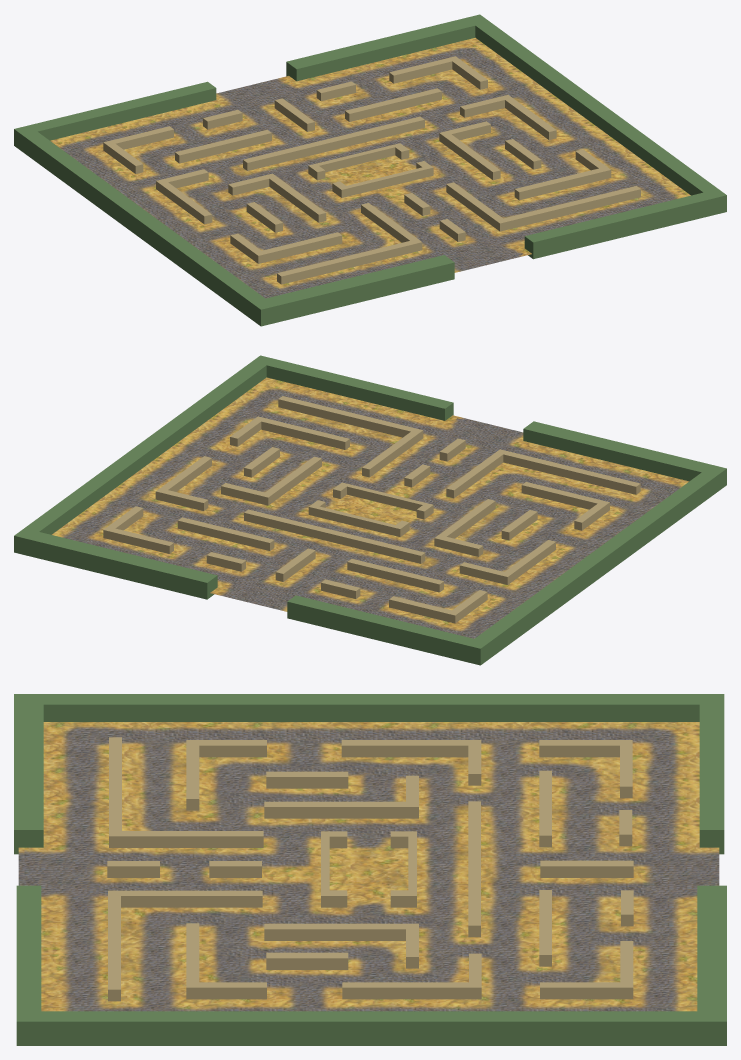
Rendered from mapa.fbx.
The picture shows the model from 3 angles, top to bottom: view 1: azimuth 30°, elevation 25°; view 2: azimuth 150°, elevation 25°; view 3: azimuth 270°, elevation 25°; orthographic projection. The views are drawn at different scales.
Visible parts, largest first — view 1: pod, zidovi_vanjski, zidovi_unutrasnji; view 2: pod, zidovi_vanjski, zidovi_unutrasnji; view 3: pod, zidovi_vanjski, zidovi_unutrasnji.
Part boxes in pixels (box(x1,y1,x2,y2)): pod: box(50, 37, 690, 298); zidovi_vanjski: box(14, 14, 726, 326); zidovi_unutrasnji: box(103, 56, 640, 284); pod: box(52, 377, 688, 638); zidovi_vanjski: box(14, 355, 726, 665); zidovi_unutrasnji: box(103, 396, 640, 623); pod: box(18, 722, 719, 1011); zidovi_vanjski: box(14, 694, 726, 1045); zidovi_unutrasnji: box(107, 737, 633, 1001).
Bounding box in the file's own units: 26.1 × 0.8968 × 24.
Materials: 3 (1 with a texture image).
